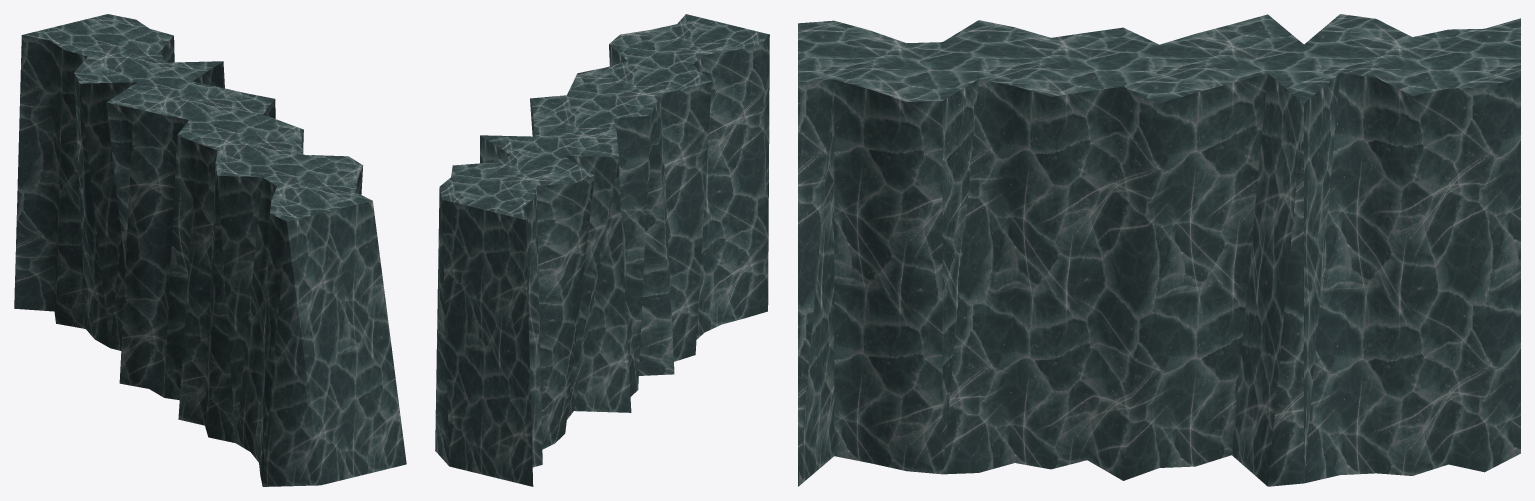
Rendered from Wall01_Mapa09_GoT.FBX.
3 views of the same model, side by side, from view 1: azimuth 30°, elevation 25°; view 2: azimuth 150°, elevation 25°; view 3: azimuth 270°, elevation 25° (orthographic). The views are drawn at different scales.
Parts seen in each view (by area): view 1: Box001; view 2: Box001; view 3: Box001.
Part boxes in pixels (x1=…): Box001: x1=14, y1=14, x2=406, y2=486; Box001: x1=435, y1=14, x2=769, y2=486; Box001: x1=798, y1=14, x2=1520, y2=486.
Size of the model in its own units: 408 by 786 by 1349.
